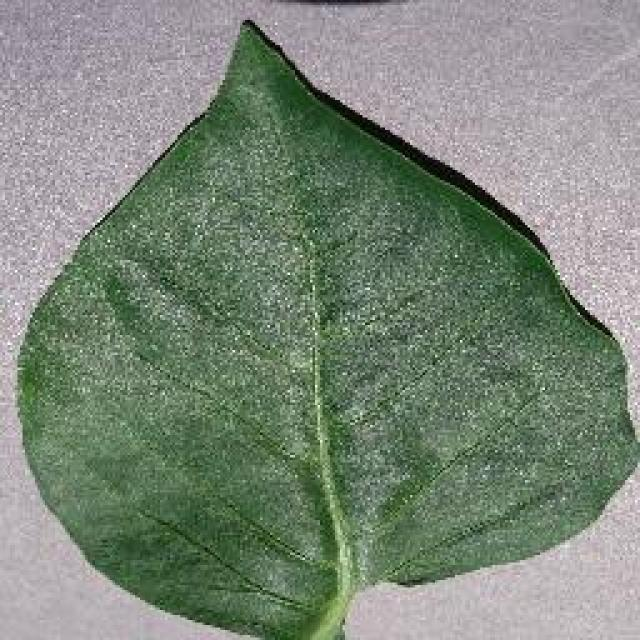Leaf: (74, 409, 328, 578)
